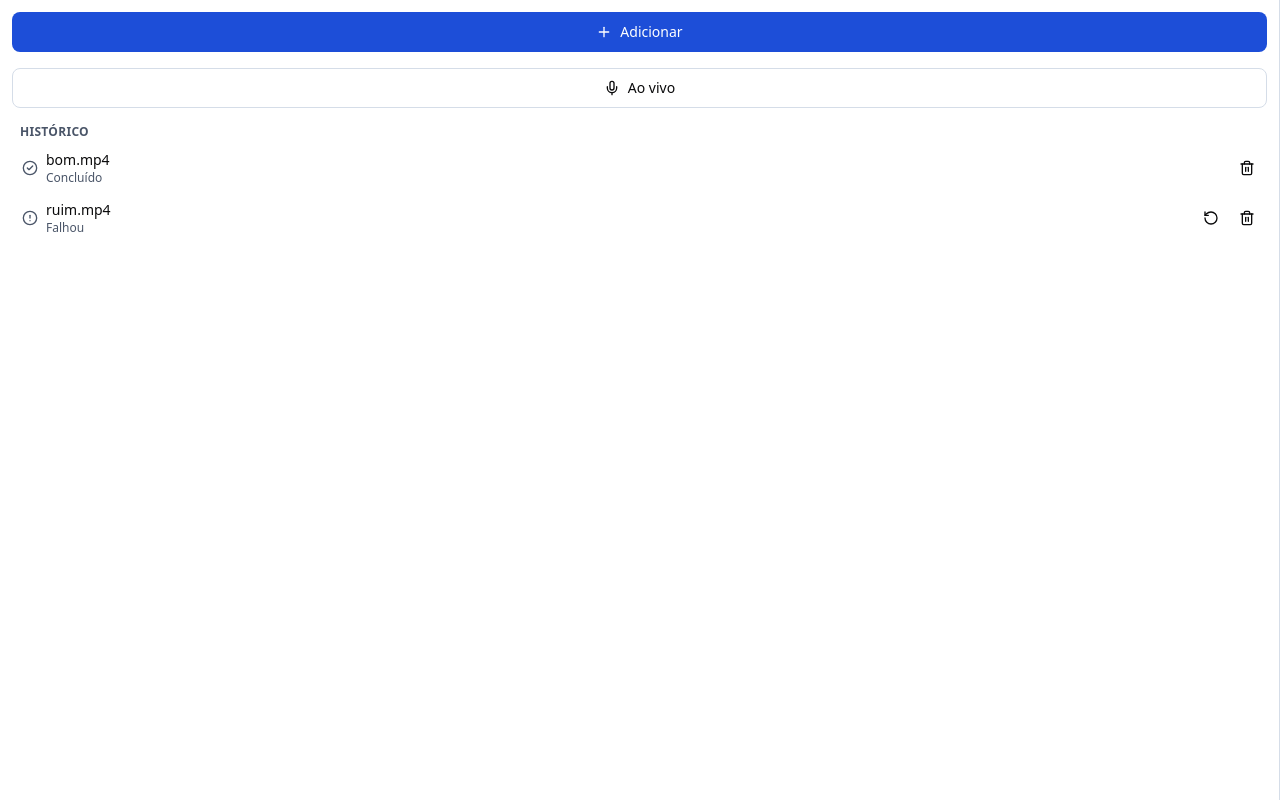
Test case: Sidebar › falhou/interrompido oferecem "Transcrever de novo"; excluir pede confirmação
Click the button named "Transcrever de novo: ruim.mp4". click: (1211, 218)
box: x1=1195 y1=202 x2=1227 y2=234
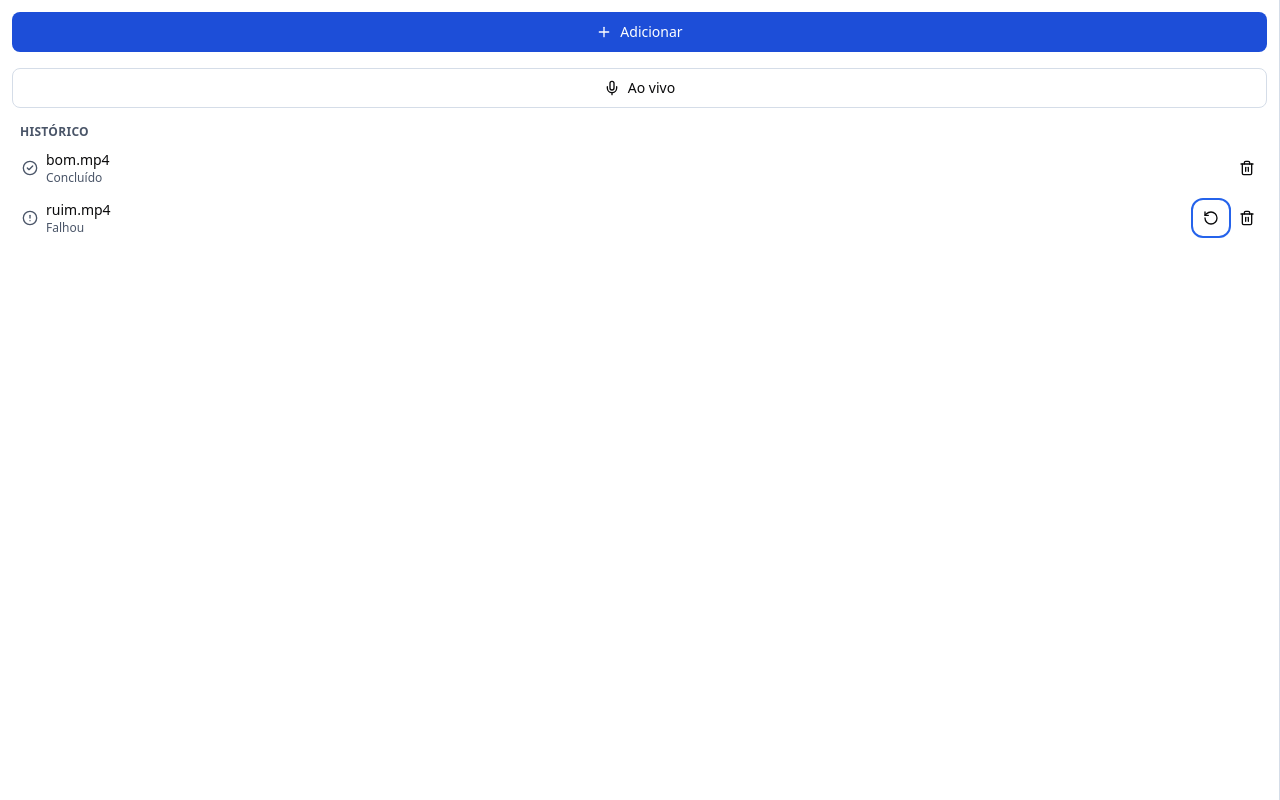
Click the button named "Excluir: bom.mp4". click: (1247, 168)
box: x1=1231 y1=152 x2=1263 y2=184
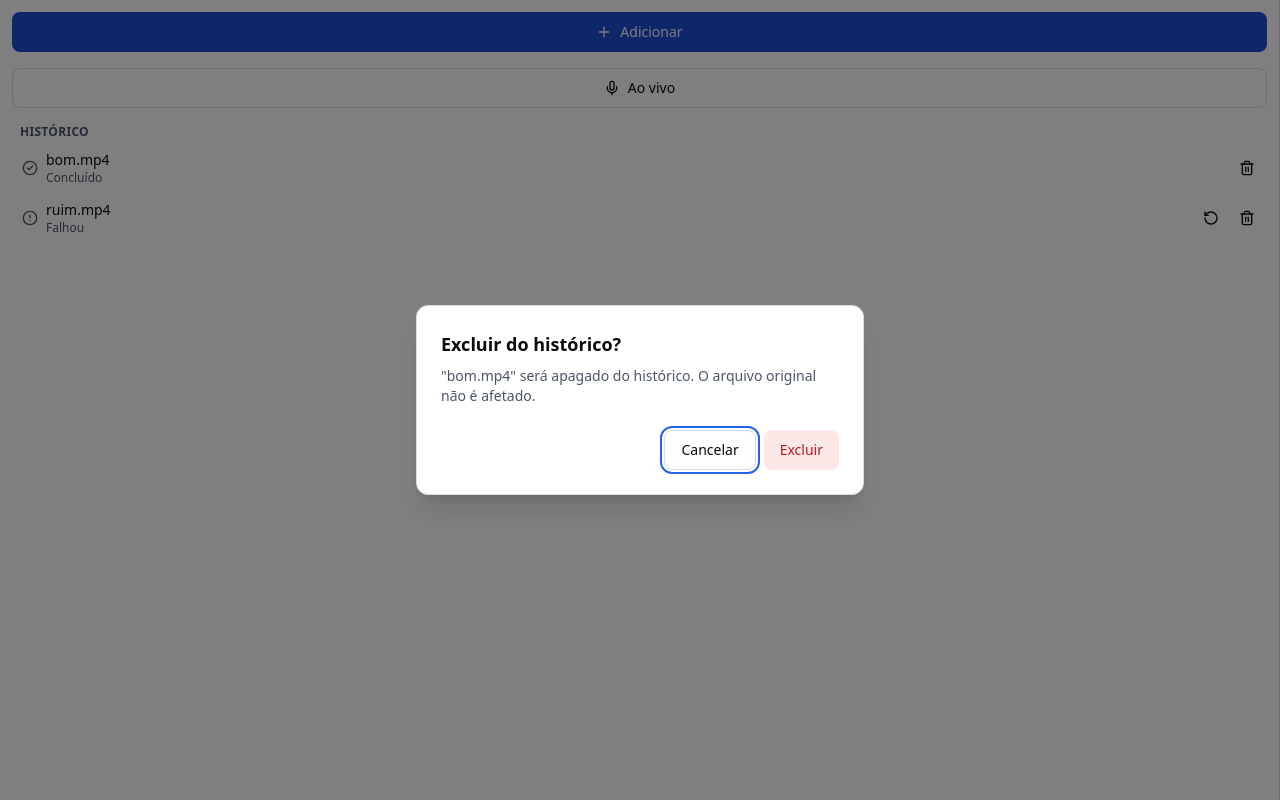
Expected: the dialog "Excluir do histórico?" shows "\"bom.mp4\" será apagado", x1=441 y1=366 x2=816 y2=405
Click the button "Cancelar". click: (710, 450)
box: x1=664 y1=430 x2=756 y2=470
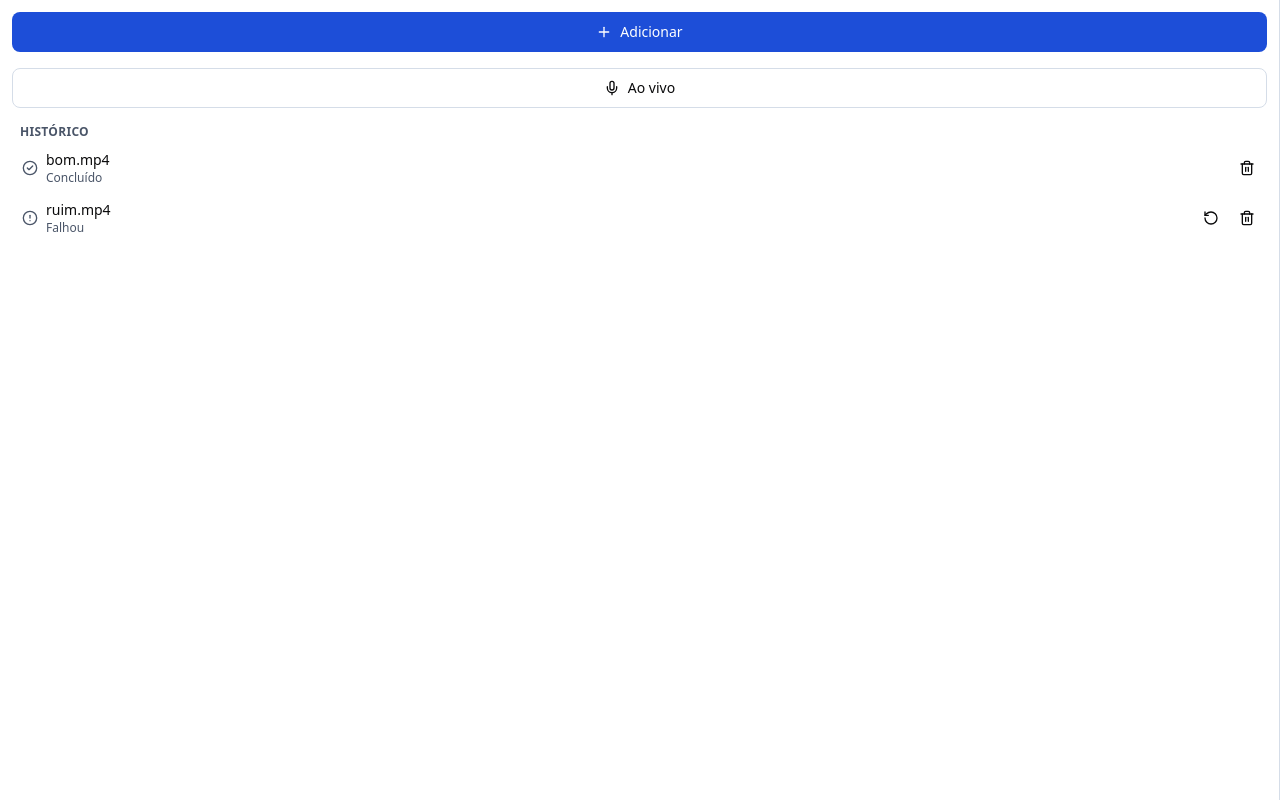
Click the button named "Excluir: bom.mp4". click: (1247, 168)
box: x1=1231 y1=152 x2=1263 y2=184
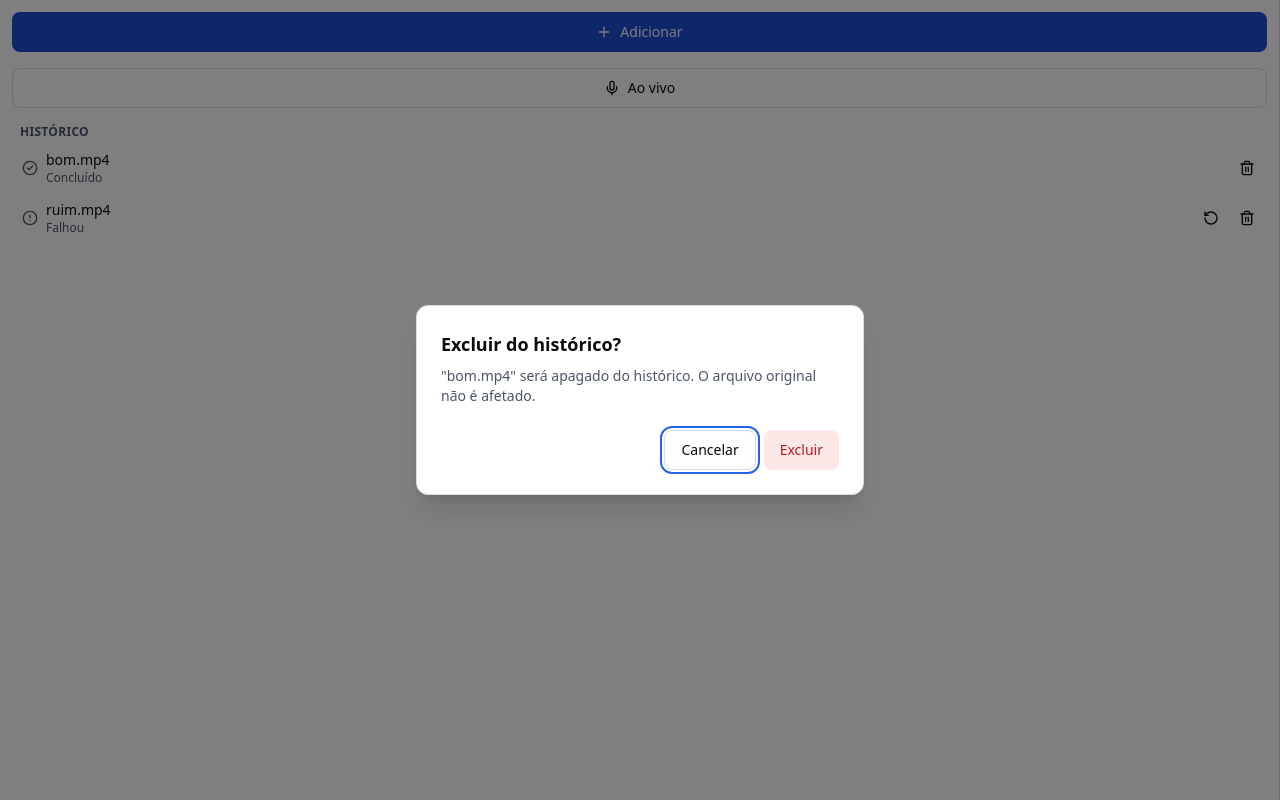
Click the button "Excluir". click: (801, 450)
box: x1=764 y1=430 x2=839 y2=470
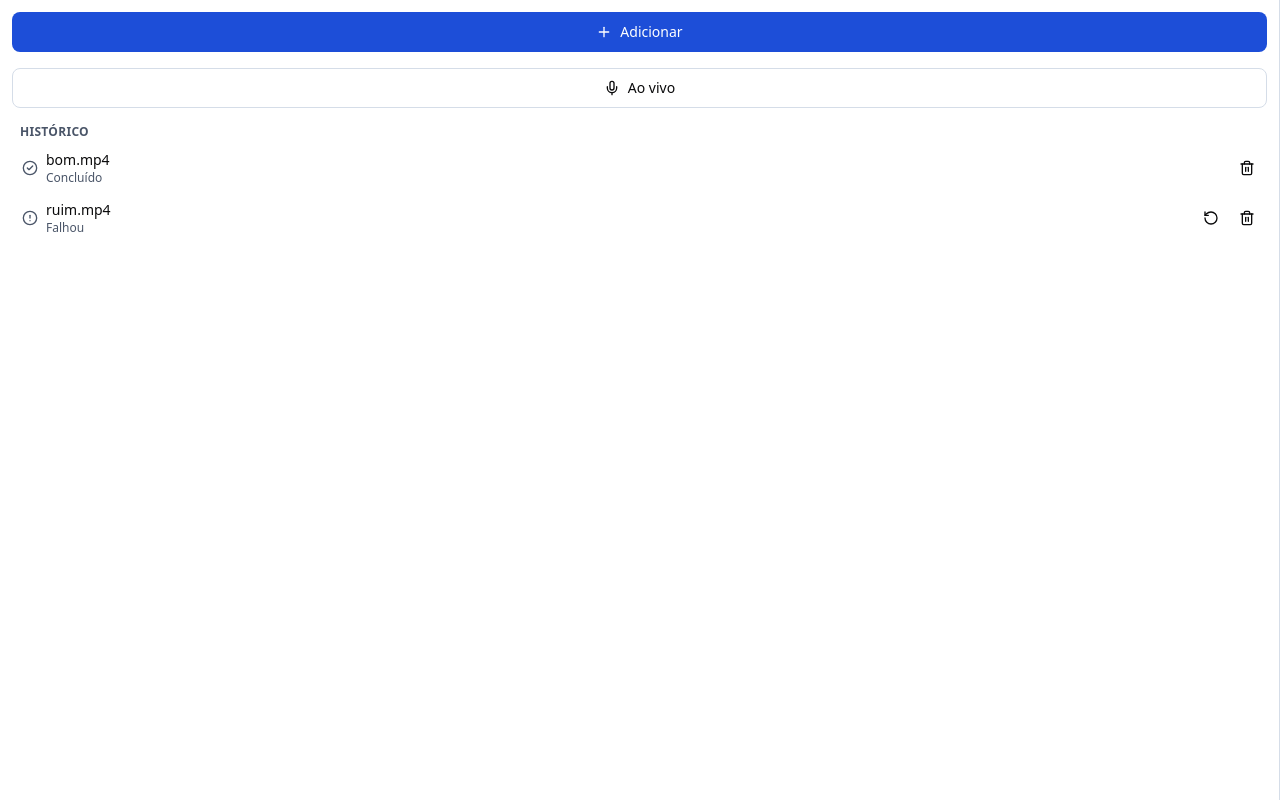
Expected: the dialog is gone
